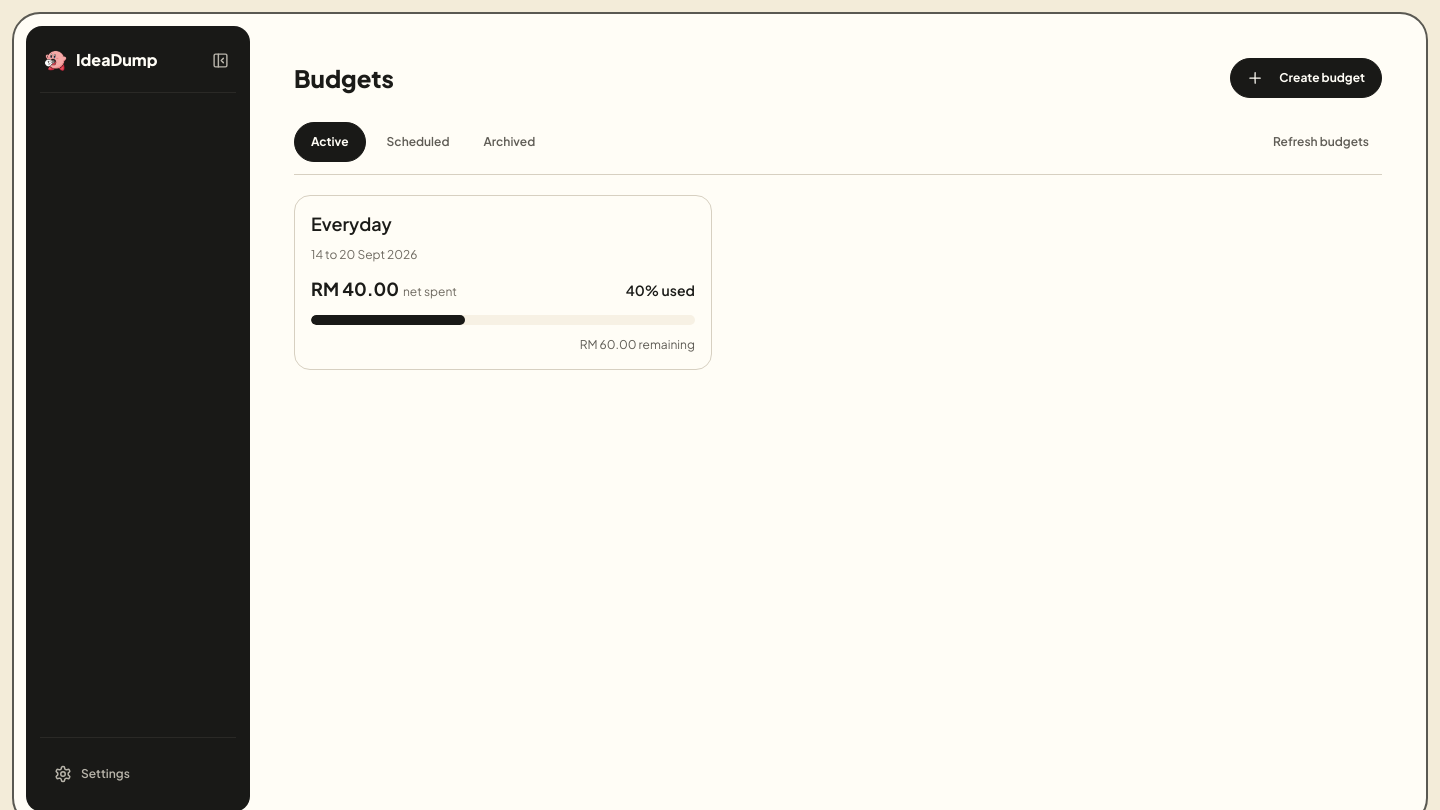
Scenario: budget list and detail loading › retries a failed selection without loading the list
Step 1. Click the button with aria-label "View Everyday" → {"x": 351, "y": 224}, box 294,195 -> 712,370
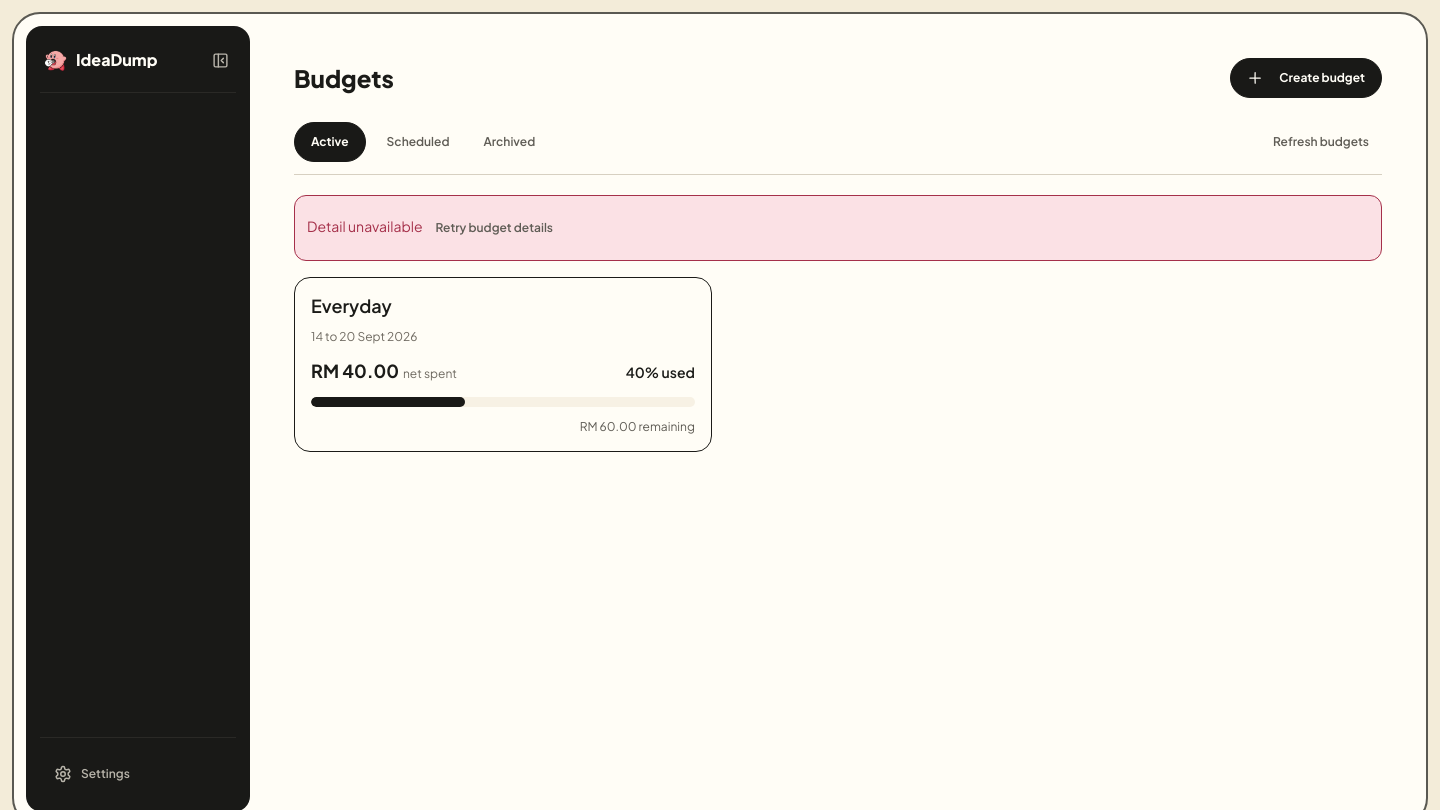
Result: the message shows "Detail unavailable" at 307,217 -> 422,235
Step 2. Click the button "Retry budget details" → {"x": 494, "y": 228}, box 422,208 -> 566,248
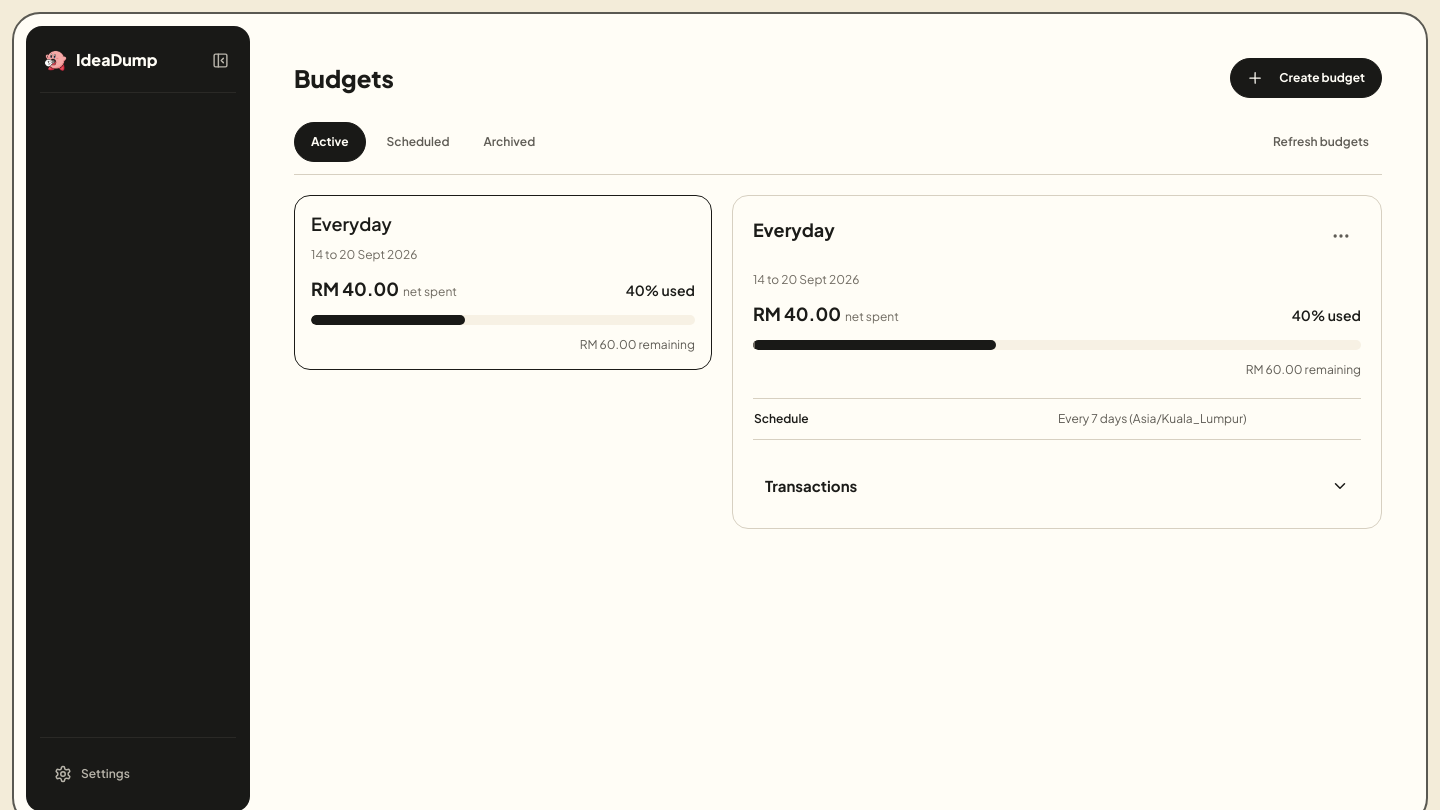
Result: the element named "Everyday details" is shown at 732,195 -> 1382,529
